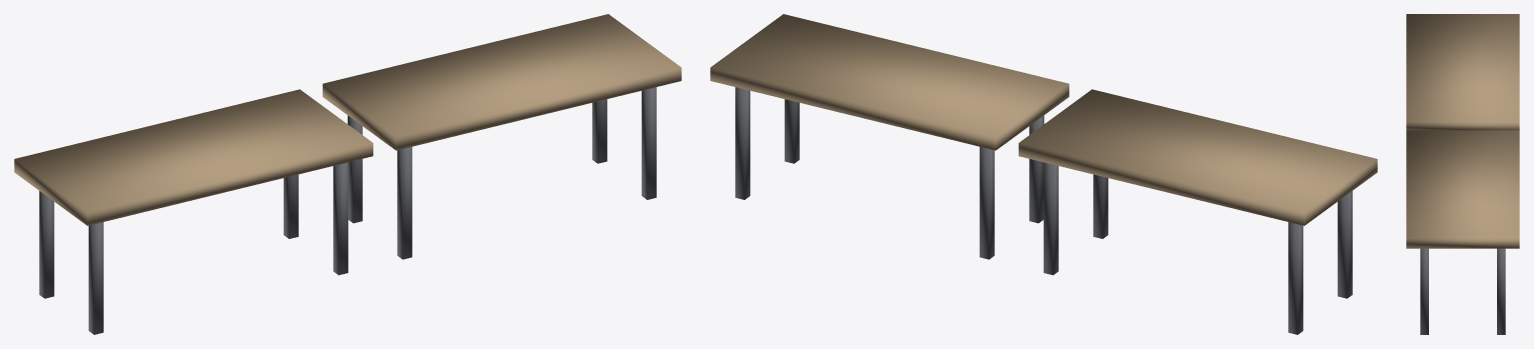
File: library_reading_table__cluster.glb
3 views of the same model, side by side, from view 1: azimuth 30°, elevation 25°; view 2: azimuth 150°, elevation 25°; view 3: azimuth 270°, elevation 25° (orthographic). The views are drawn at different scales.
Visible parts, largest first — view 1: world; view 2: world; view 3: world.
Boxes of the visible parts, bbox=[...] form: world: bbox=[14, 14, 681, 334]; world: bbox=[710, 14, 1377, 334]; world: bbox=[1406, 14, 1519, 334].
Bounding box in the file's own units: 3.74 × 0.8 × 0.8.
